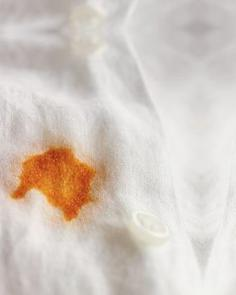stain: (10, 142, 103, 226)
